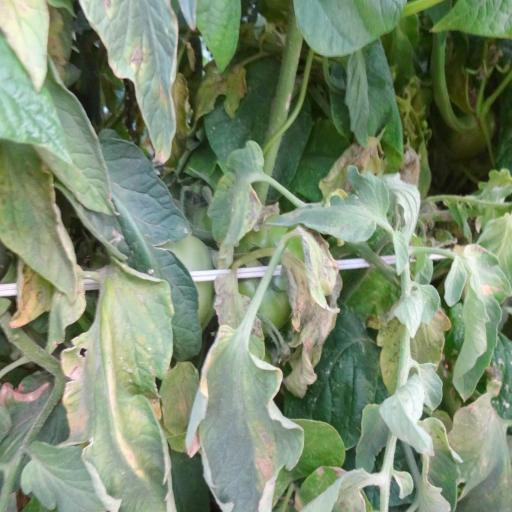Late Blight: (60, 264, 174, 512), (188, 304, 302, 512), (64, 1, 196, 173), (442, 233, 512, 414), (266, 160, 394, 242), (205, 135, 270, 261)
